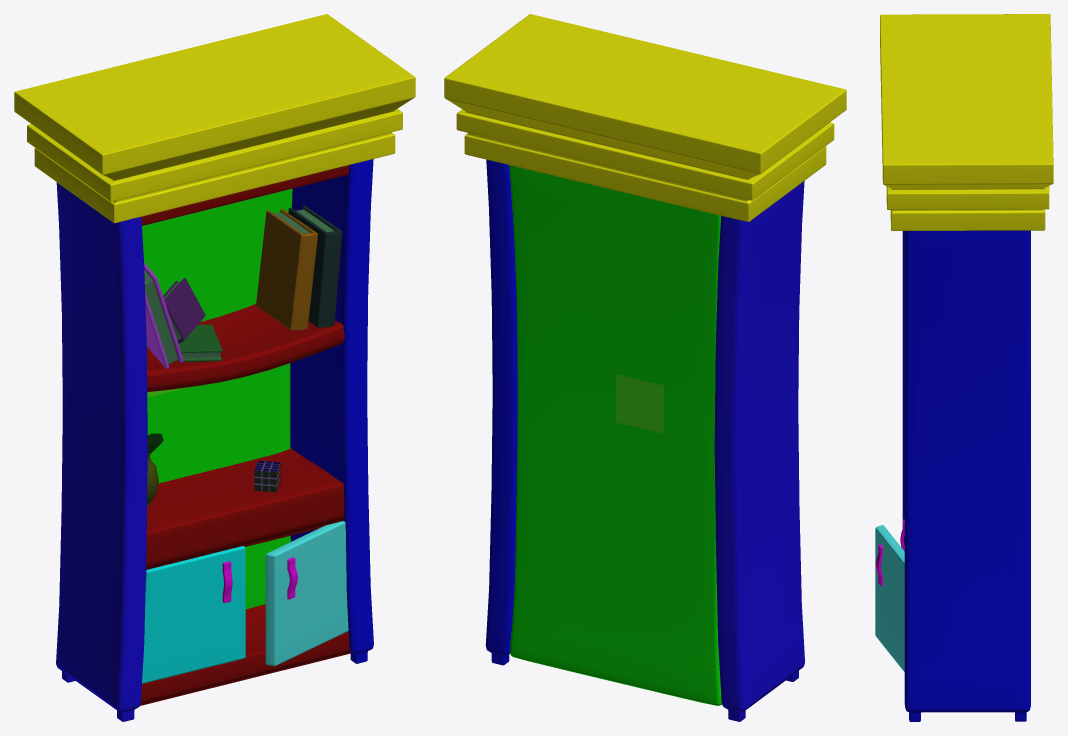
The model's file is Obj_separados_armario.fbx.
3 renders of one model, left to right at view 1: azimuth 30°, elevation 25°; view 2: azimuth 150°, elevation 25°; view 3: azimuth 270°, elevation 25°, orthographic. The views are drawn at different scales.
Parts seen in each view (by area): view 1: bookshelf_GEO, bookshelf_GEO.004, bookshelf_GEO.005, bookshelf_GEO.003, bookshelf_GEO.007, bookshelf_GEO.006, bookshelf_GEO.008, bookshelf_GEO.010; view 2: bookshelf_GEO; view 3: bookshelf_GEO.
Part boxes in pixels (x1,y1,x2,y2): bookshelf_GEO: [14, 14, 415, 721]; bookshelf_GEO.004: [256, 209, 317, 330]; bookshelf_GEO.005: [288, 205, 342, 327]; bookshelf_GEO.003: [144, 262, 183, 368]; bookshelf_GEO.007: [163, 278, 205, 343]; bookshelf_GEO.006: [178, 324, 222, 362]; bookshelf_GEO.008: [254, 460, 280, 492]; bookshelf_GEO.010: [147, 433, 163, 505]; bookshelf_GEO: [444, 14, 846, 721]; bookshelf_GEO: [875, 14, 1053, 721].
Size of the model in its own units: 57.98 by 103 by 28.88.
